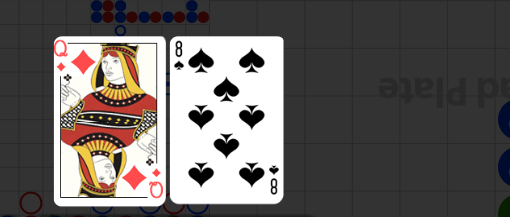8S: (267, 162, 280, 196)
9D: (54, 38, 67, 73)
QD: (66, 36, 110, 83), (133, 157, 177, 203)
